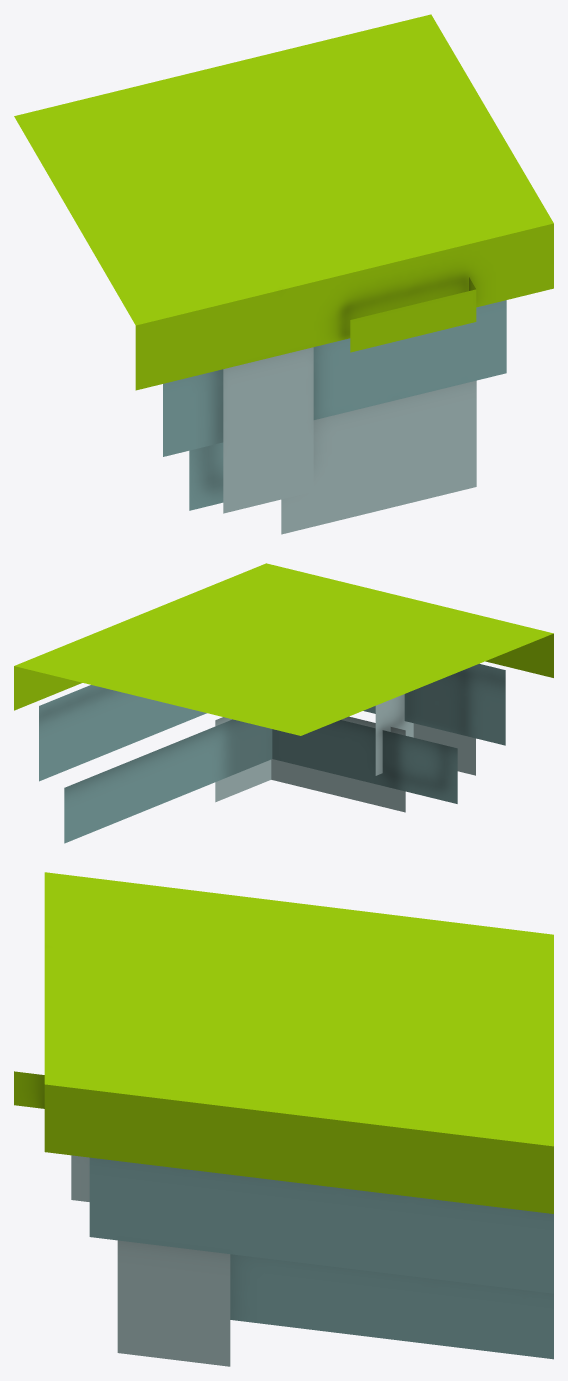
The model's file is Field_Type_01_04.FBX.
3 renders of one model, top to bottom at view 1: azimuth 30°, elevation 25°; view 2: azimuth 150°, elevation 25°; view 3: azimuth 270°, elevation 25°, orthographic. The views are drawn at different scales.
Visible parts, largest first — view 1: Field_Type_01_04; view 2: Field_Type_01_04; view 3: Field_Type_01_04.
Boxes of the visible parts, left/top/right/bottom form: Field_Type_01_04: left=14, top=14, right=553, bottom=534; Field_Type_01_04: left=14, top=563, right=553, bottom=843; Field_Type_01_04: left=14, top=872, right=553, bottom=1366.
Size of the model in its own units: 13.77 by 6.79 by 11.45.
